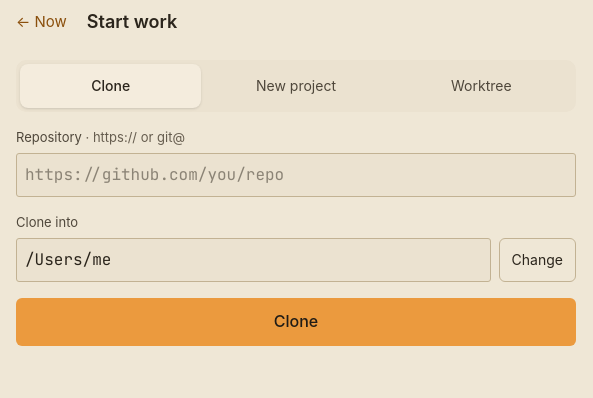
Scenario: Start work › refuses an address that is not https:// or git@ before sending it
Check: the field showing "/Users/me" is shown, box [16,238,491,282]
Type "file:///Users/me/repo.git" into the field with placeholder "https://github.com/you/repo".
click(296, 175); type("file:///Users/me/repo.git")  # box [16,153,576,197]
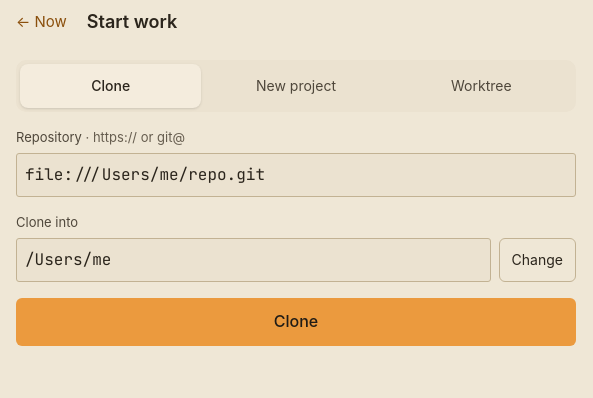
Click the button "Clone".
click(296, 322)  # box [16,298,576,346]
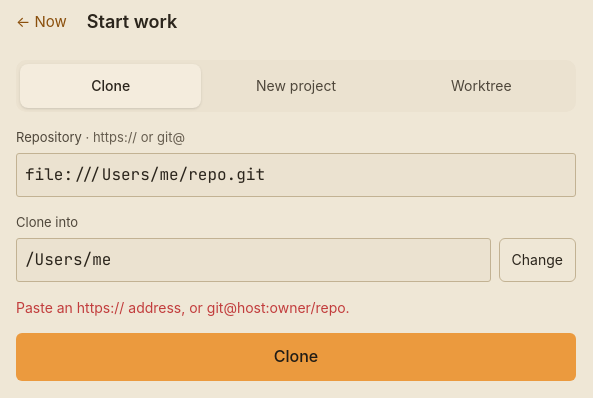
Check: the message shows "https://", box [16,299,350,316]
